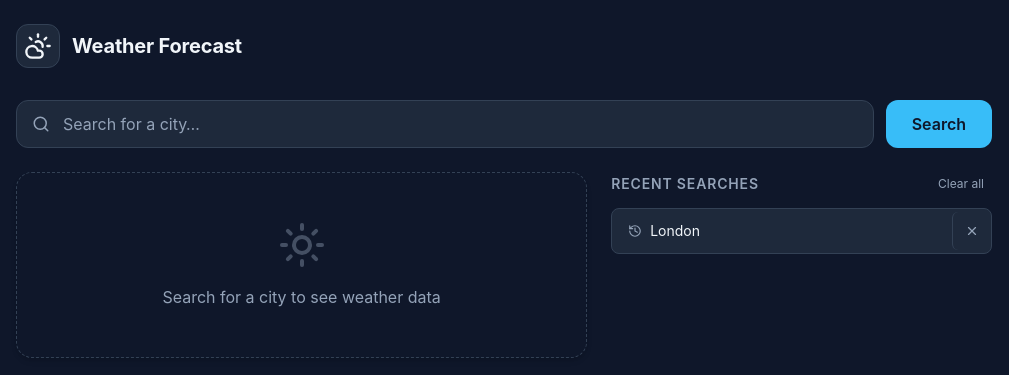
Scenario: App › Undo flow › shows an undo toast after removing a history item
This screenshot has width=1009, height=375.
What coordinates should you click on to do the following:
click the button named "Remove London from history"
I would click on:
 (972, 231)
Its box is [952,212,991,250].
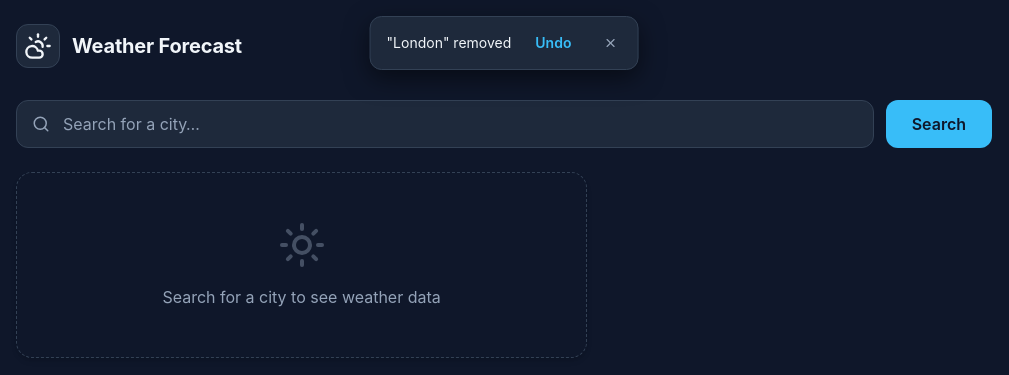
expect the message "\"London\" removed Undo" is shown: met, box [370,16,638,70]
expect the text "\"London\" removed" is shown: met, box [387,33,511,53]
